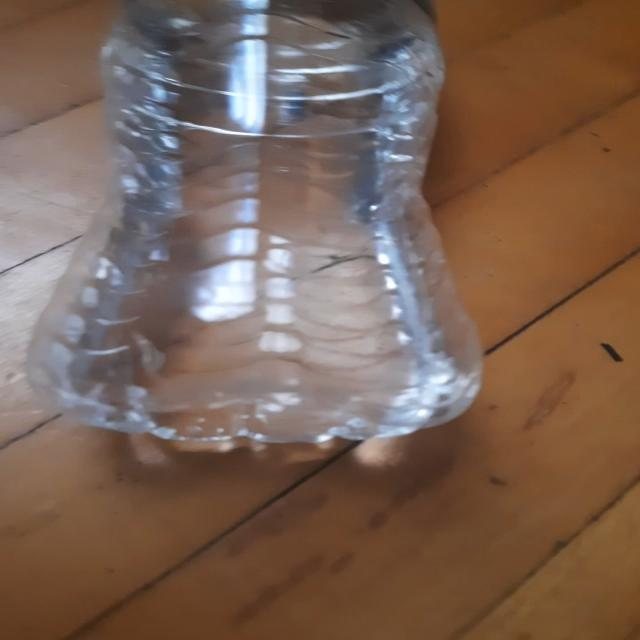Plastic: (23, 0, 484, 457)
